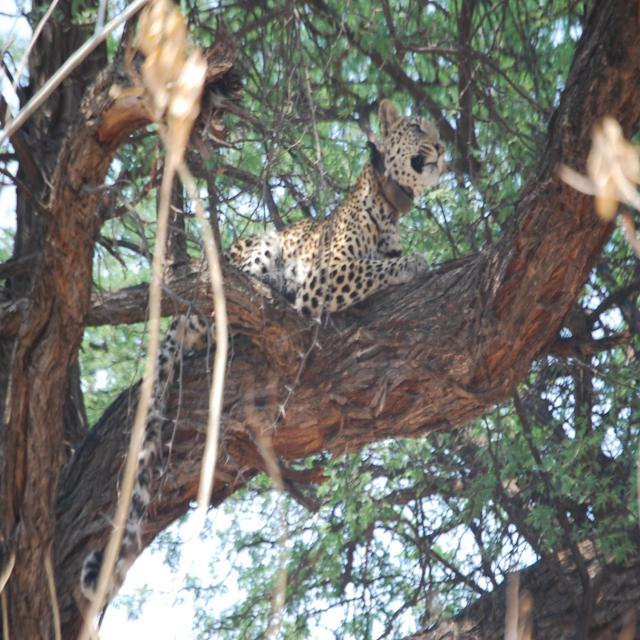Leopard: (65, 125, 454, 576)
